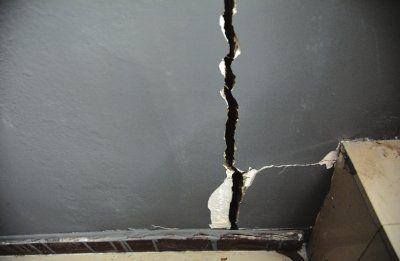Crack: (223, 1, 244, 230)
Spalling: (206, 168, 259, 229), (317, 151, 340, 169)
